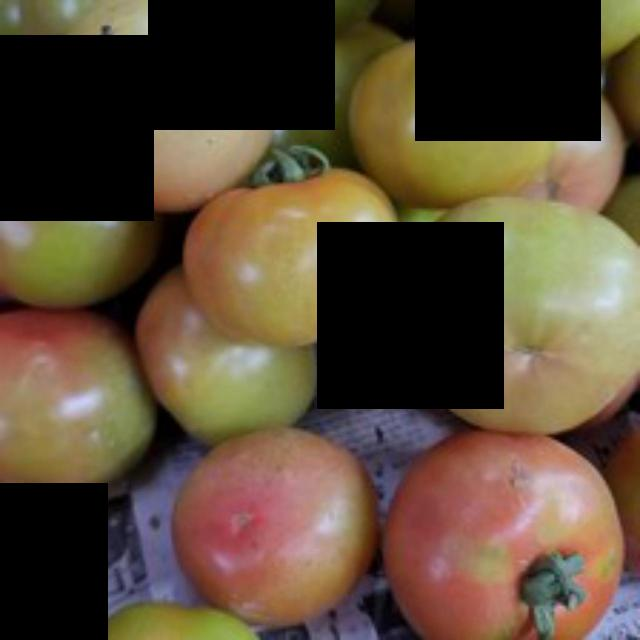tomato: (380, 423, 625, 637), (150, 426, 388, 627)
